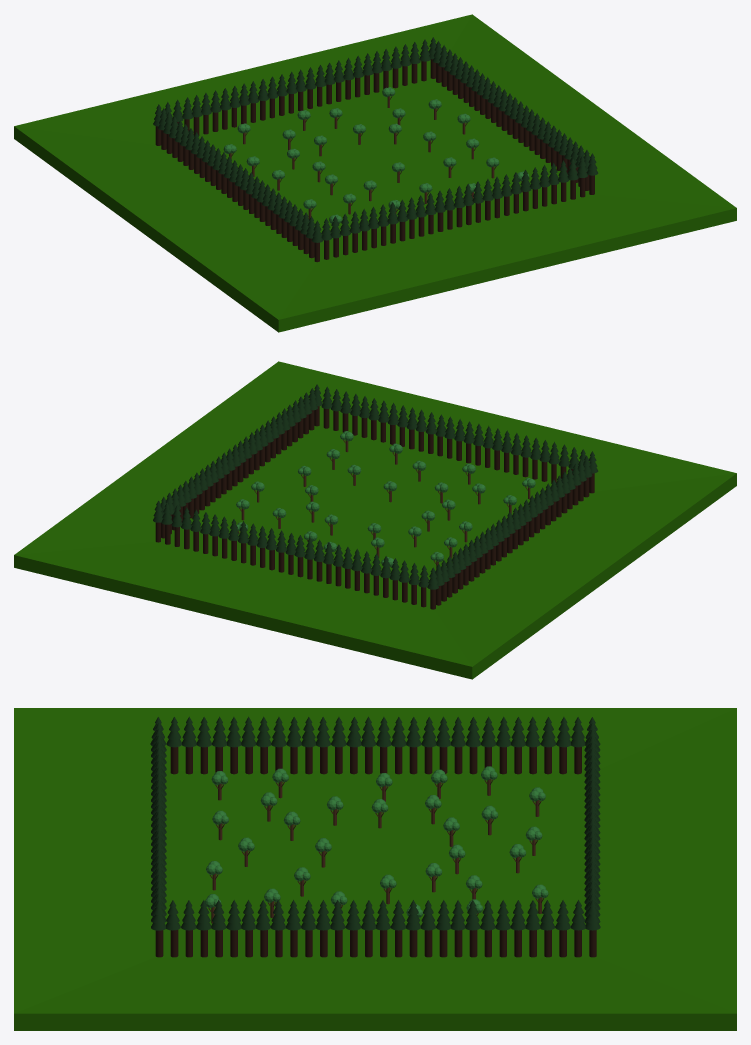
Rendered from liten scene.fbx.
3 views of the same model, one above another, from view 1: azimuth 30°, elevation 25°; view 2: azimuth 150°, elevation 25°; view 3: azimuth 270°, elevation 25° (orthographic). The views are drawn at different scales.
Parts seen in each view (by area): view 1: Cube, Cone.116, Cylinder.002, träds.030; view 2: Cube, Cone.116, Cylinder.002, träds.030; view 3: Cube, Cone.116, Cylinder.002, träds.030.
Boxes of the visible parts, x1,y1,x2,y2 form: Cube: (14,14,736,332); Cone.116: (153,37,598,242); Cylinder.002: (155,59,594,262); träds.030: (223,87,529,223); Cube: (14,361,736,679); Cone.116: (153,384,598,589); Cylinder.002: (155,406,594,609); träds.030: (236,431,535,569); Cube: (14,708,736,1030); Cone.116: (150,716,600,930); Cylinder.002: (155,746,596,957); träds.030: (205,766,548,923).
Bounding box in the file's own units: 3006 × 321 × 3006.
